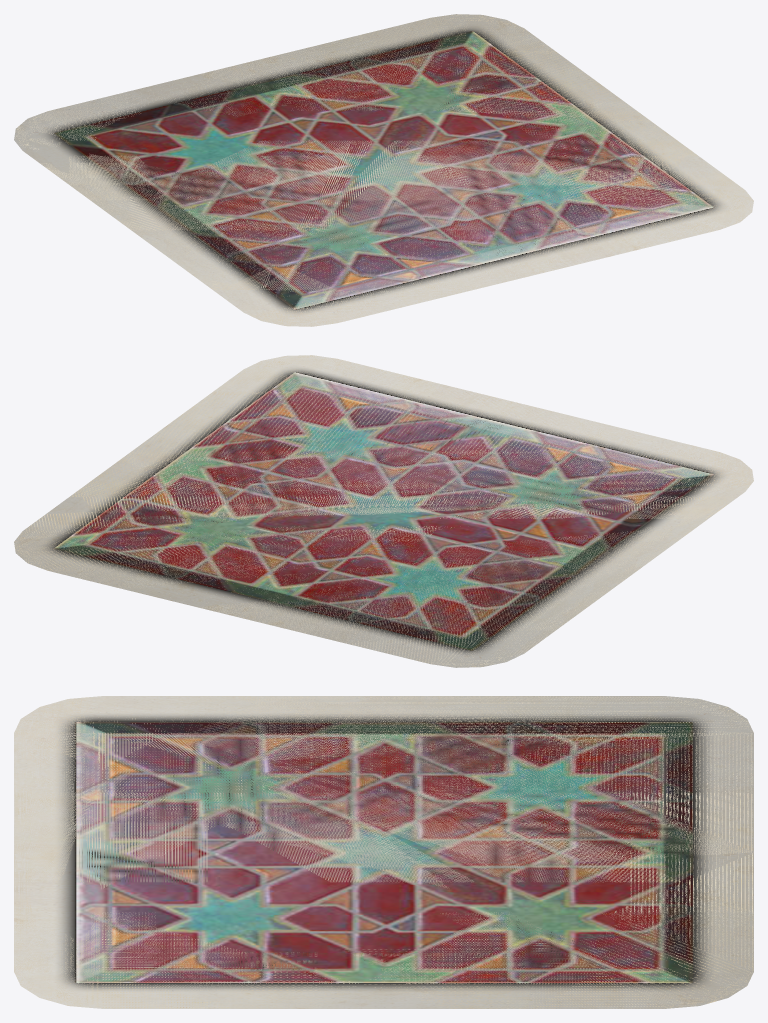
File: card2.fbx
3 renders of one model, top to bottom at view 1: azimuth 30°, elevation 25°; view 2: azimuth 150°, elevation 25°; view 3: azimuth 270°, elevation 25°, orthographic. The views are drawn at different scales.
Visible parts, largest first — view 1: polySurface1; view 2: polySurface1; view 3: polySurface1.
Part boxes in pixels (box(x1,y1,x2,y2)): polySurface1: box(14, 14, 753, 326); polySurface1: box(14, 355, 753, 667); polySurface1: box(14, 696, 753, 1008).
Bounding box in the file's own units: 1 × 0 × 1.
